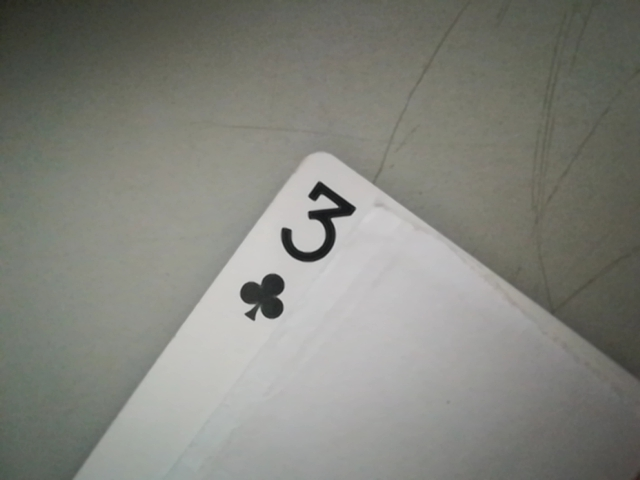mh 3: (234, 175, 373, 327)
